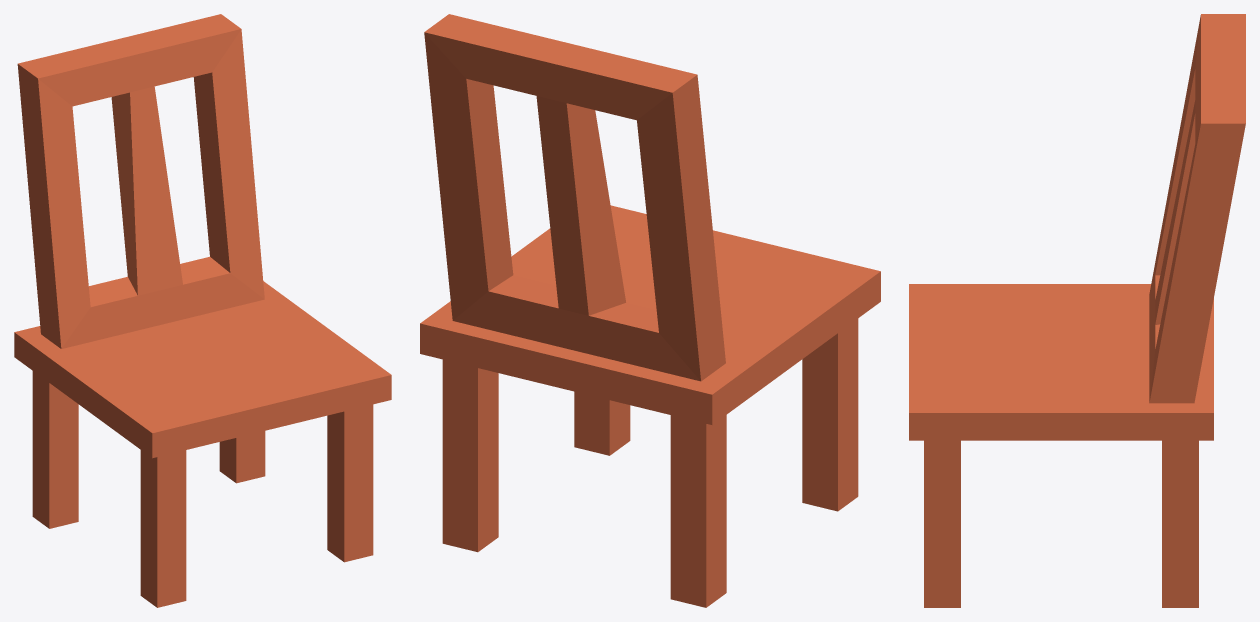
The model's file is Chair.fbx.
3 views of the same model, side by side, from view 1: azimuth 30°, elevation 25°; view 2: azimuth 150°, elevation 25°; view 3: azimuth 270°, elevation 25° (orthographic). The views are drawn at different scales.
Parts seen in each view (by area): view 1: Chair; view 2: Chair; view 3: Chair.
Part boxes in pixels (<box>): Chair: <box>14,14,391,607</box>; Chair: <box>420,14,880,607</box>; Chair: <box>909,14,1245,607</box>.
Size of the model in its own units: 61.9 by 108 by 68.41.
